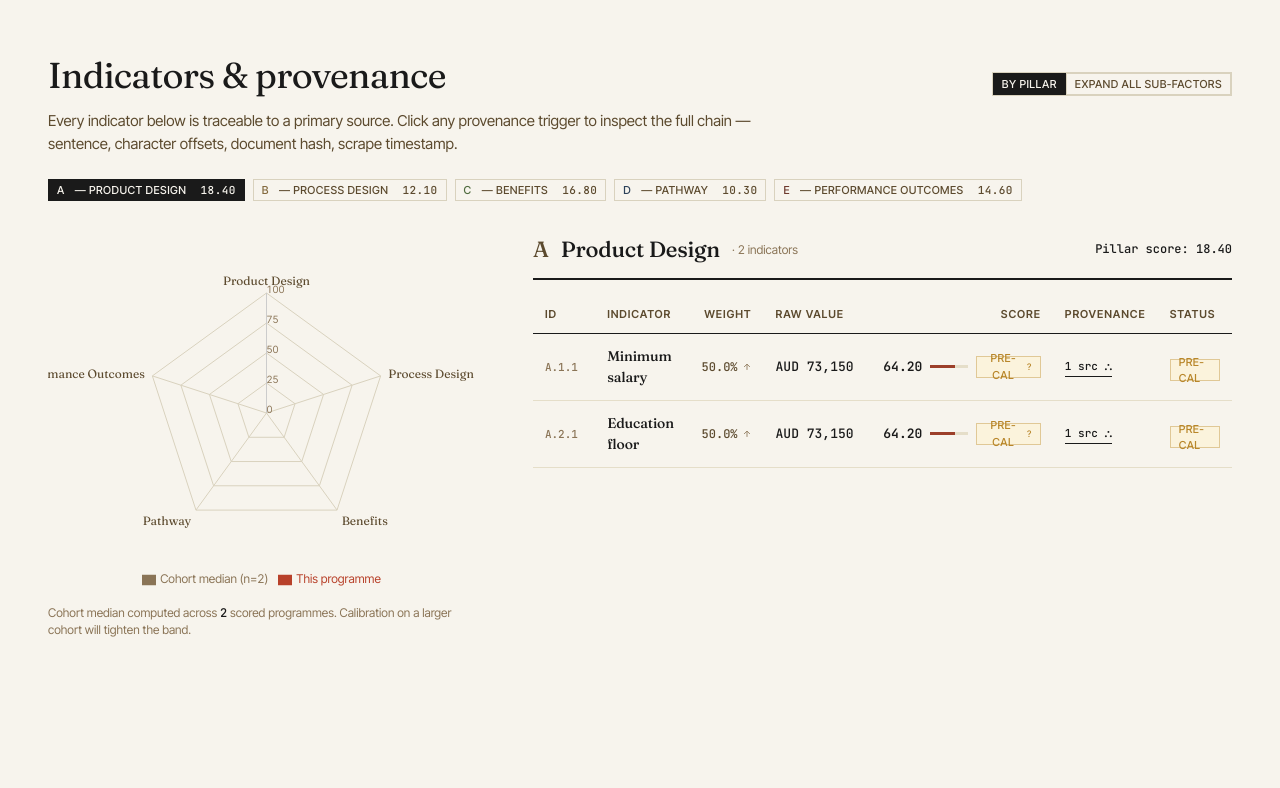
Test case: PillarBreakdown — tabs vs expand-all (Q5) › switches back to tabs mode from expand-all
Click the button with test id "pillar-breakdown-mode-all" at (1148, 84), box left=1066, top=73, right=1231, bottom=95
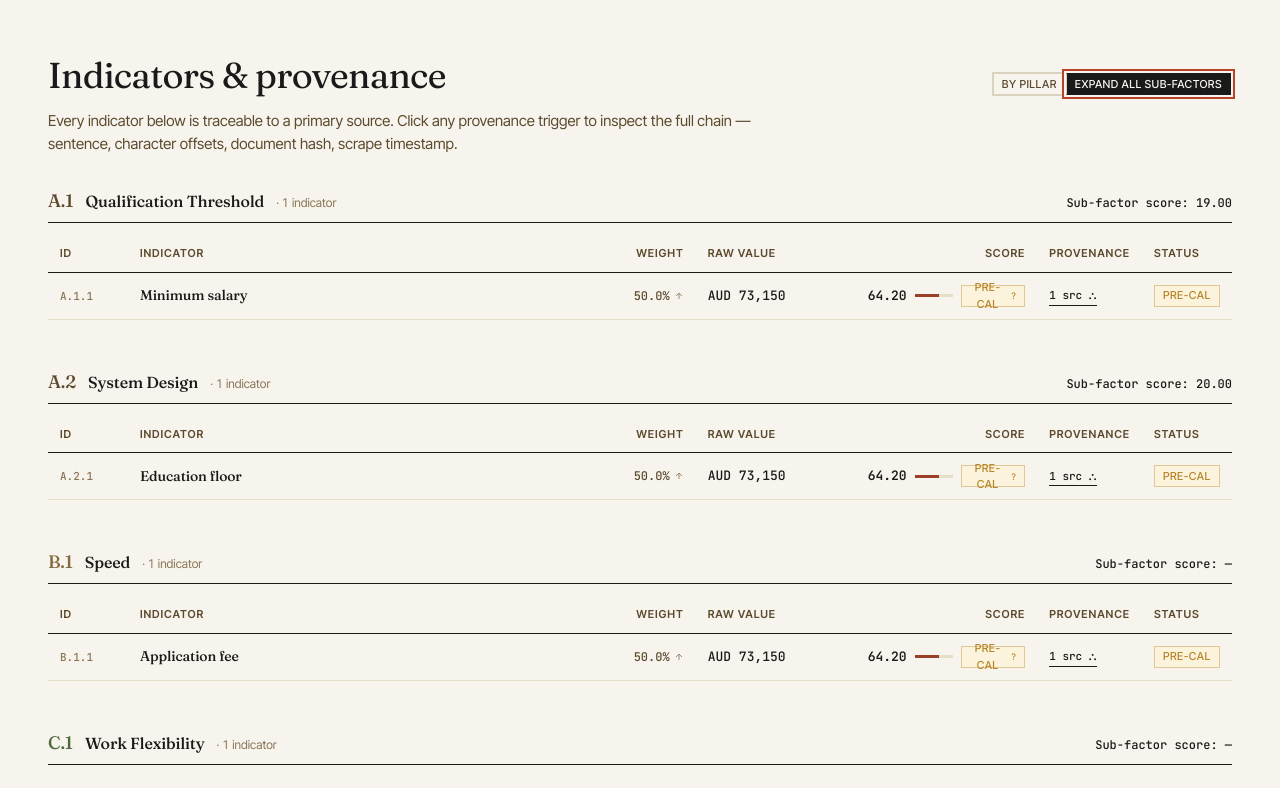
Click the button with test id "pillar-breakdown-mode-tabs" at (1029, 84), box left=993, top=73, right=1066, bottom=95
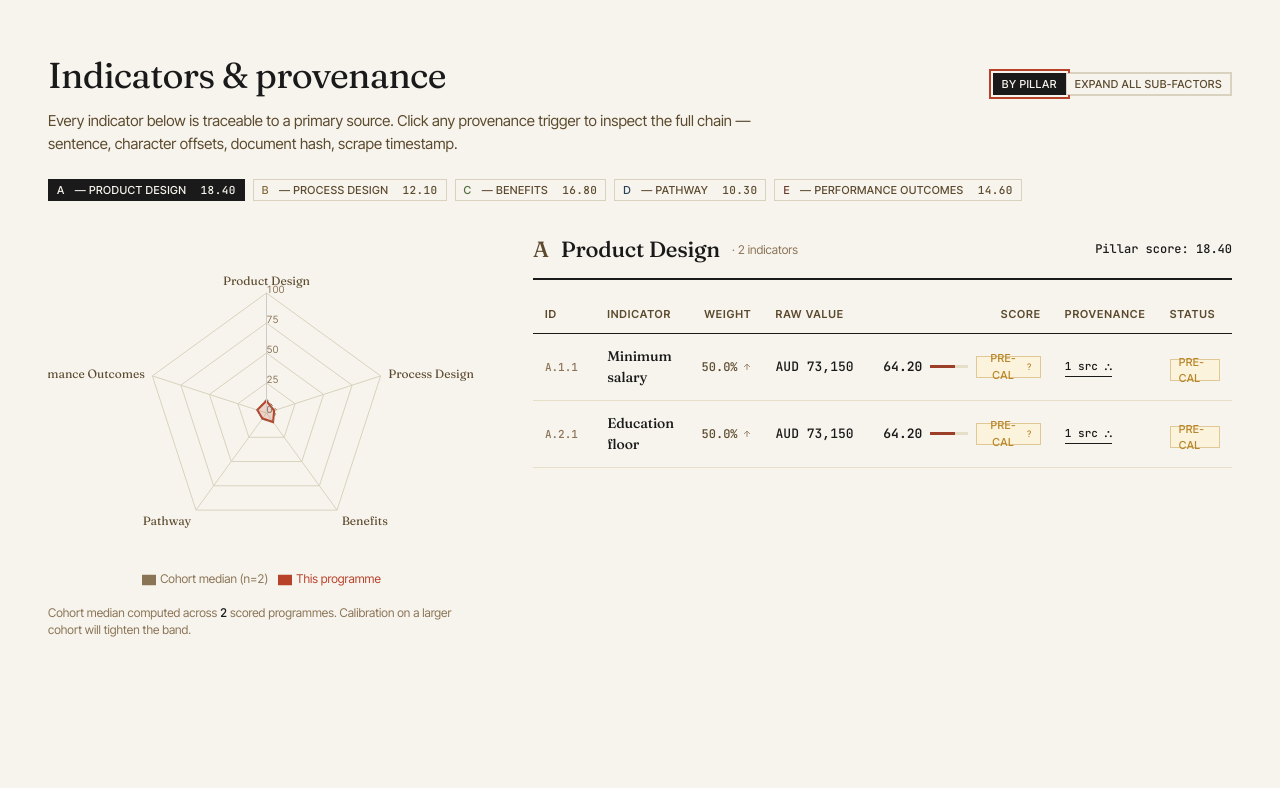
Check: the element with test id "pillar-tab-strip" is shown, box left=48, top=179, right=1022, bottom=201
